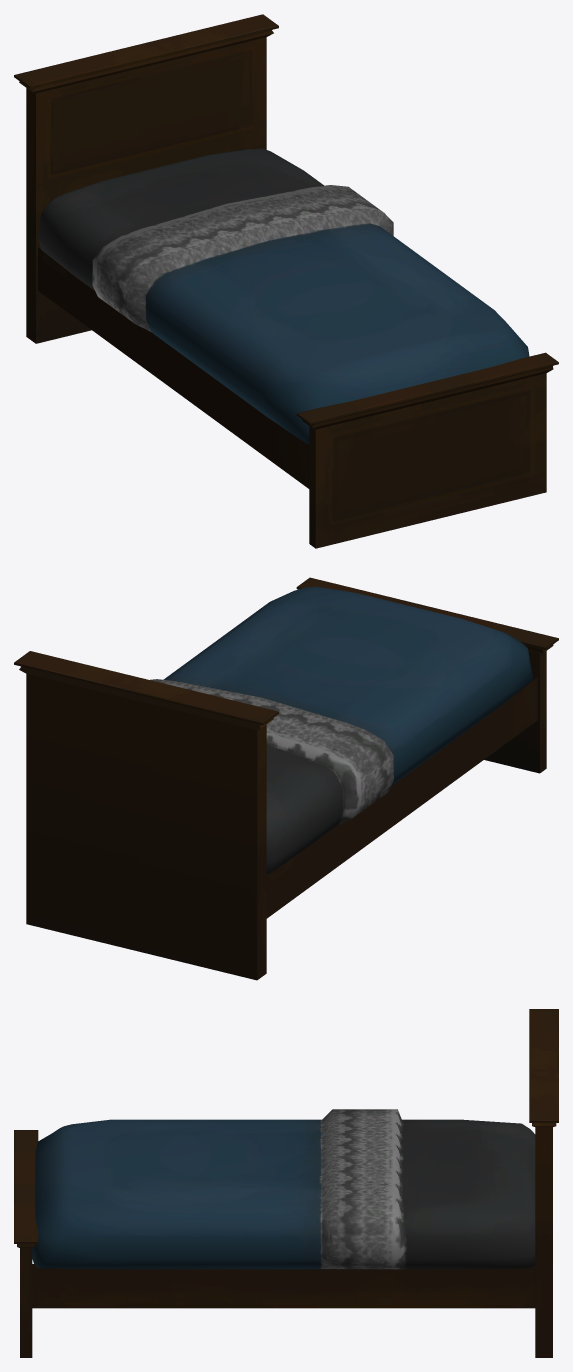
The model's file is product_6.obj.
3 views of the same model, one above another, from view 1: azimuth 30°, elevation 25°; view 2: azimuth 150°, elevation 25°; view 3: azimuth 270°, elevation 25° (orthographic). The views are drawn at different scales.
Size of the model in its own units: 0.0213 by 0.0202 by 0.0413.
Materials: 1 (1 with a texture image).
